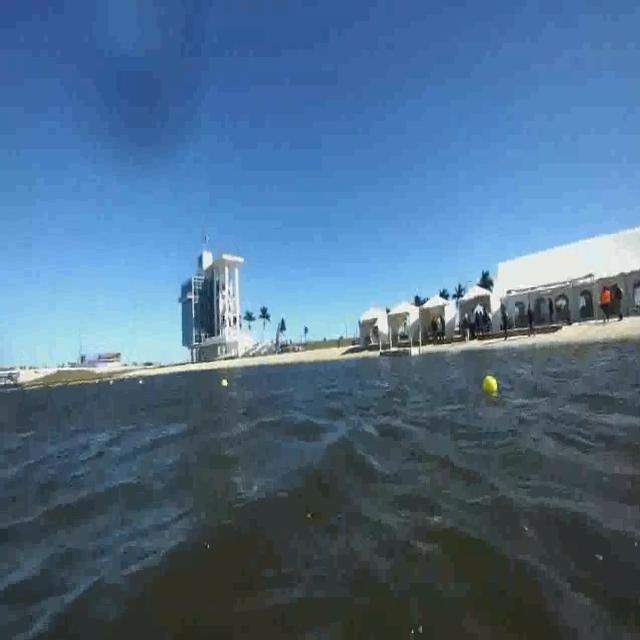yellow-buoy: (483, 373, 499, 393)
